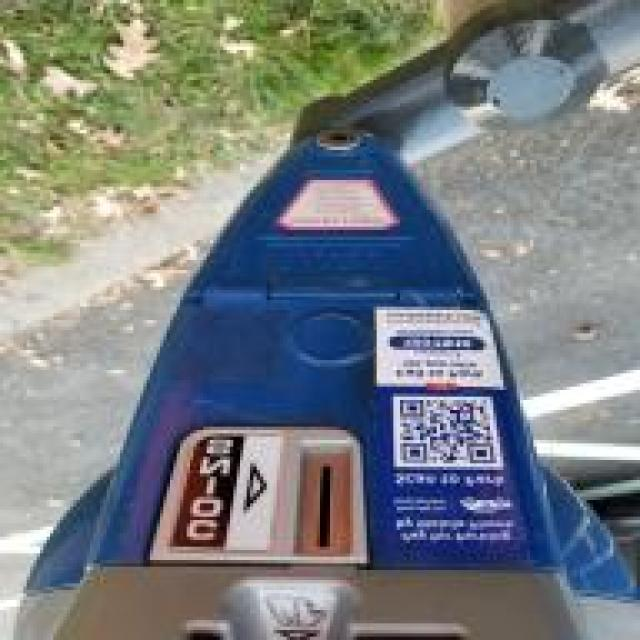QR_CODE: (390, 390, 507, 473)
